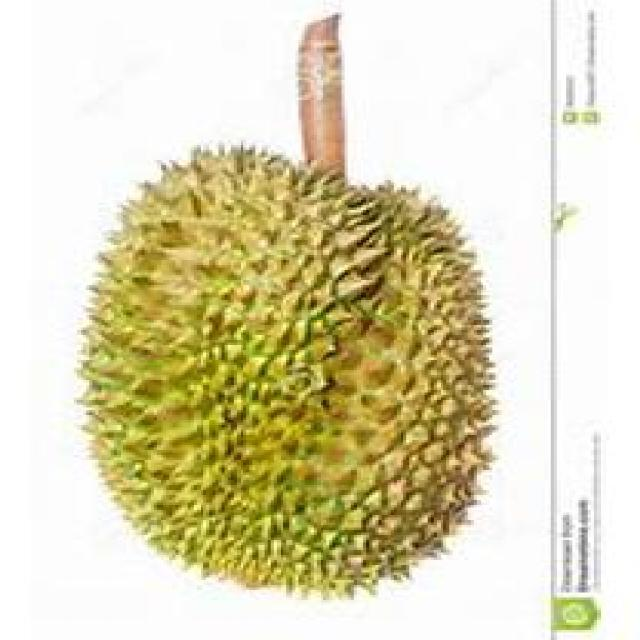fruit: (33, 260, 384, 630)
